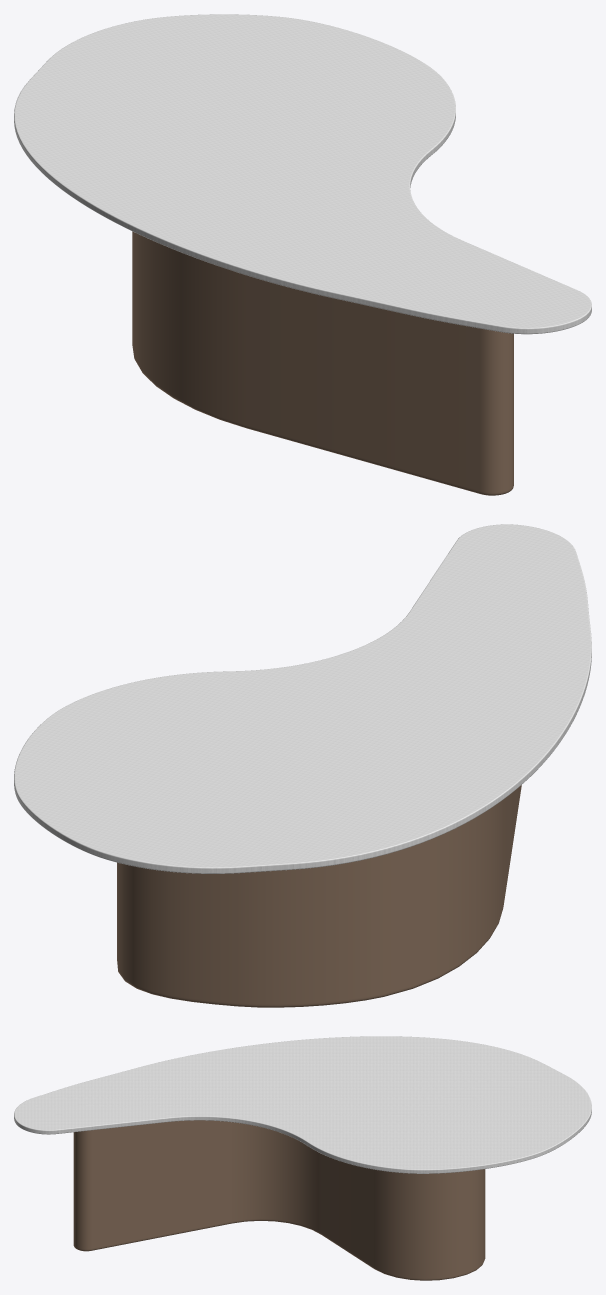
Rendered from table.obj.
3 views of the same model, one above another, from view 1: azimuth 30°, elevation 25°; view 2: azimuth 150°, elevation 25°; view 3: azimuth 270°, elevation 25° (orthographic). The views are drawn at different scales.
Visible parts, largest first — view 1: pasted__pasted__polySurface6 pasted__group16 group; view 2: pasted__pasted__polySurface6 pasted__group16 group; view 3: pasted__pasted__polySurface6 pasted__group16 group.
Part boxes in pixels (x1,y1,x2,y2): pasted__pasted__polySurface6 pasted__group16 group: (14,14,591,495); pasted__pasted__polySurface6 pasted__group16 group: (14,524,591,1007); pasted__pasted__polySurface6 pasted__group16 group: (14,1036,591,1280).
Bounding box in the file's own units: 1.16 × 0.5573 × 2.13.
Materials: 2 (2 with a texture image).
